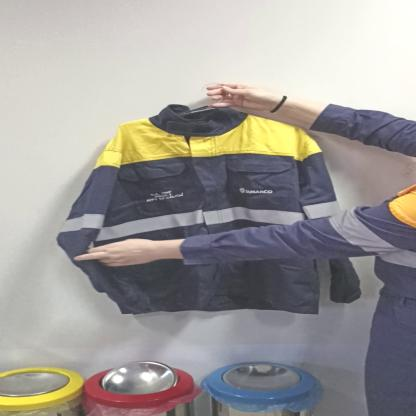C_eletrica: (64, 111, 364, 320)
